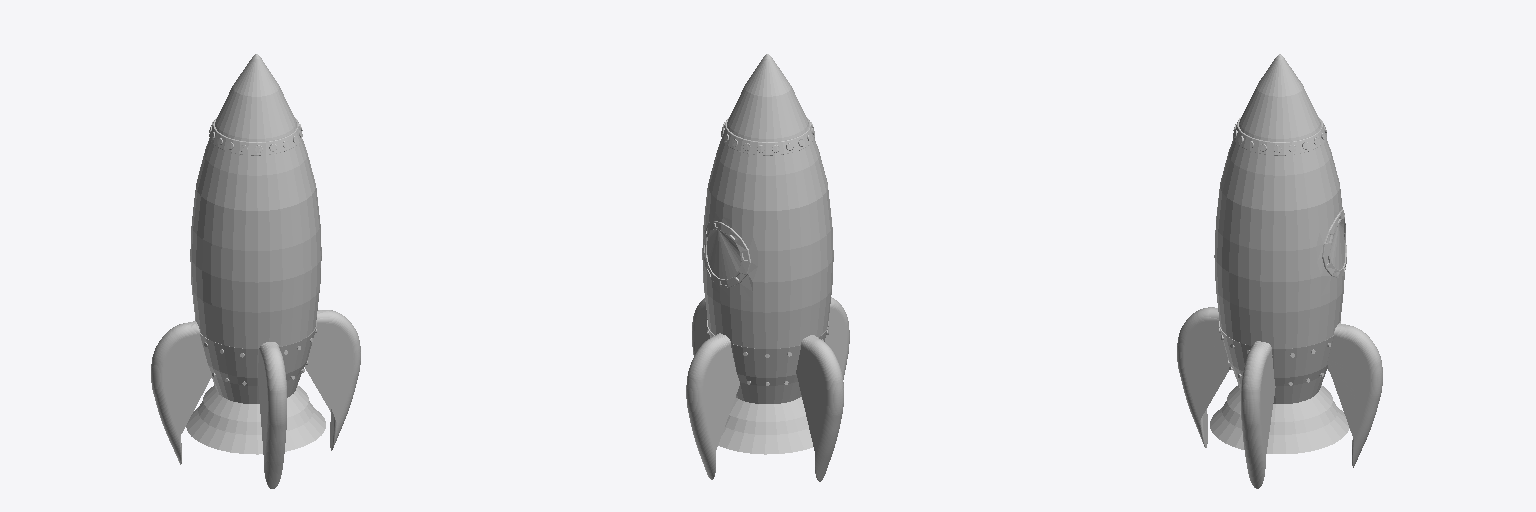
The model's file is day 2 rocket.obj.
3 renders of one model, left to right at view 1: azimuth 30°, elevation 25°; view 2: azimuth 150°, elevation 25°; view 3: azimuth 270°, elevation 25°, orthographic.
Visible parts, largest first — view 1: Circle.002_Circle.003, Cube.002_Cube.005, Circle_Circle.001; view 2: Circle.002_Circle.003, Cube.002_Cube.005, Circle.001_Circle, Circle_Circle.001; view 3: Circle.002_Circle.003, Cube.002_Cube.005, Circle_Circle.001, Circle.001_Circle.
Boxes of the visible parts, x1=… form: Circle.002_Circle.003: x1=186, y1=54, x2=325, y2=454; Cube.002_Cube.005: x1=151, y1=310, x2=360, y2=488; Circle_Circle.001: x1=209, y1=118, x2=302, y2=155; Circle.002_Circle.003: x1=702, y1=54, x2=833, y2=454; Cube.002_Cube.005: x1=686, y1=297, x2=849, y2=481; Circle.001_Circle: x1=707, y1=229, x2=740, y2=279; Circle_Circle.001: x1=721, y1=118, x2=814, y2=155; Circle.002_Circle.003: x1=1210, y1=54, x2=1349, y2=453; Cube.002_Cube.005: x1=1177, y1=307, x2=1382, y2=488; Circle_Circle.001: x1=1233, y1=118, x2=1326, y2=155; Circle.001_Circle: x1=1330, y1=219, x2=1344, y2=269.
Bounding box in the file's own units: 1.09 × 2.34 × 1.09.